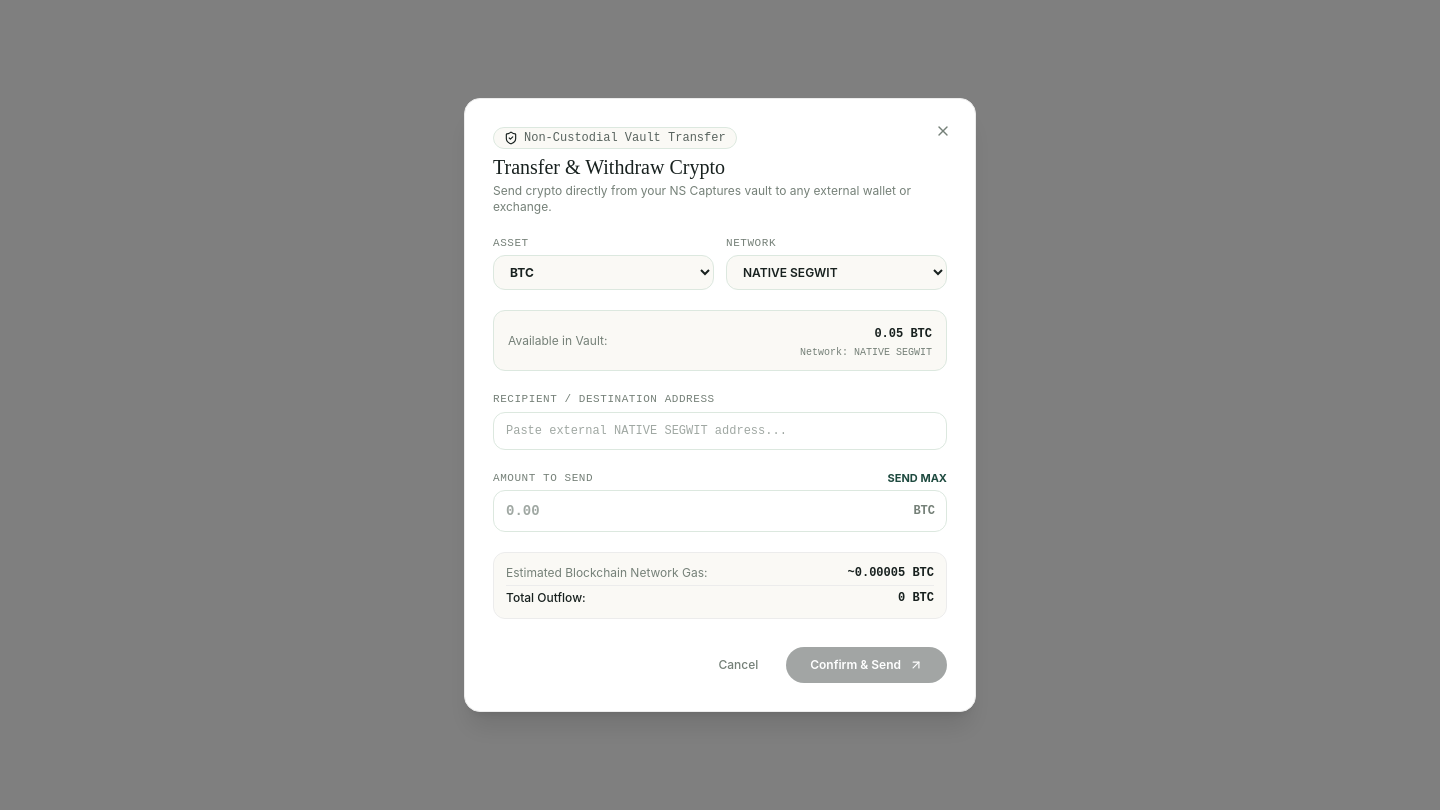
Test: TransferCryptoModal › validates Bitcoin Native SegWit address: rejects invalid address, accepts bc1 address
// Invalid: starts with 0x
In the field with placeholder "Paste external NATIVE SEGWIT address...": x=720, y=431 [493,412,947,450], type "0x71C8363837918a71018283719284729184719284"
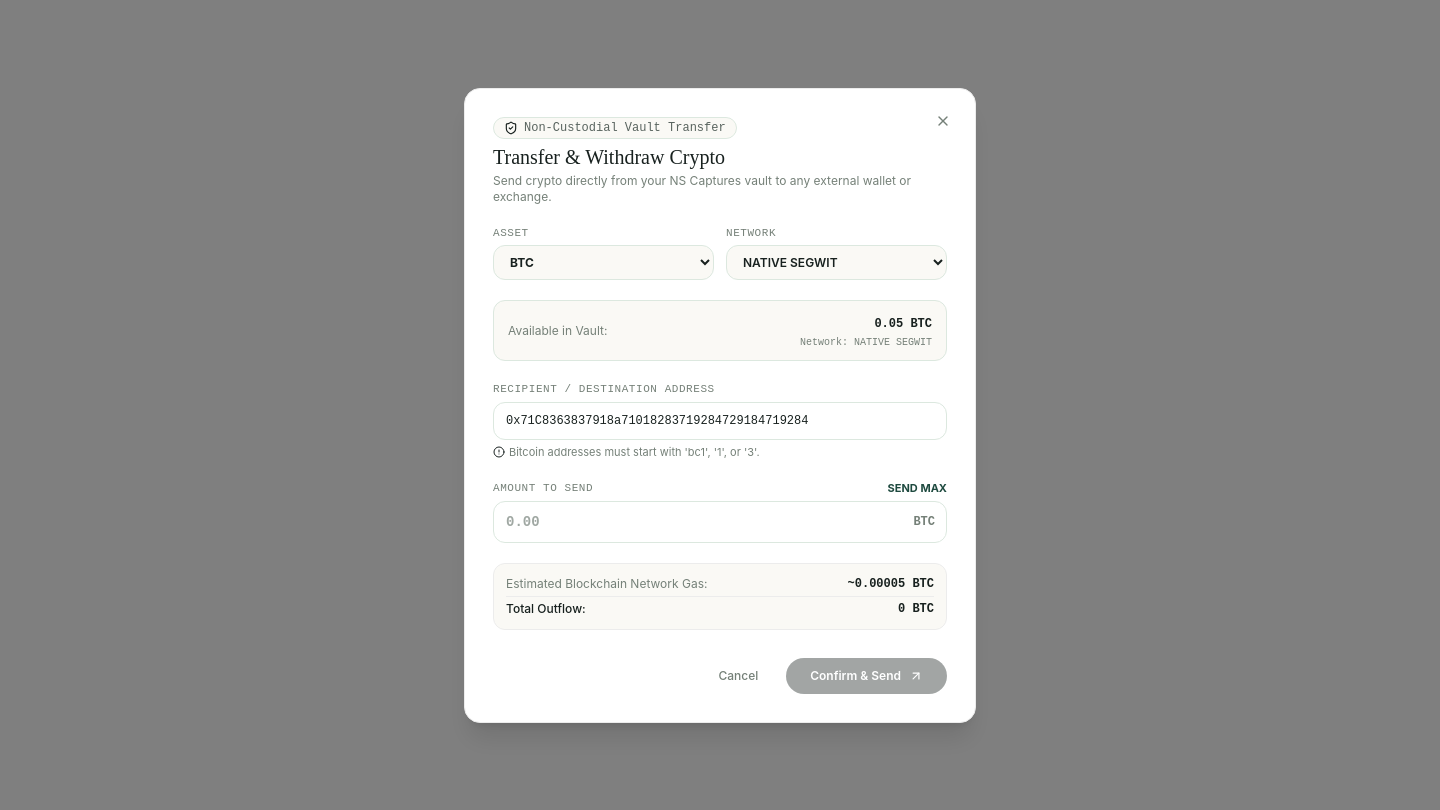
Now the text "Bitcoin addresses must start with 'bc1', '1', or '3'." is shown, box [509,444,760,460]
// Valid: bc1 address
Replace the text in the field with placeholder "Paste external NATIVE SEGWIT address..." with "bc1qxy2kgdygjrsqtzq2n0yrf2493p83kkfjhx0wlh": x=720, y=420 [493,402,947,440]
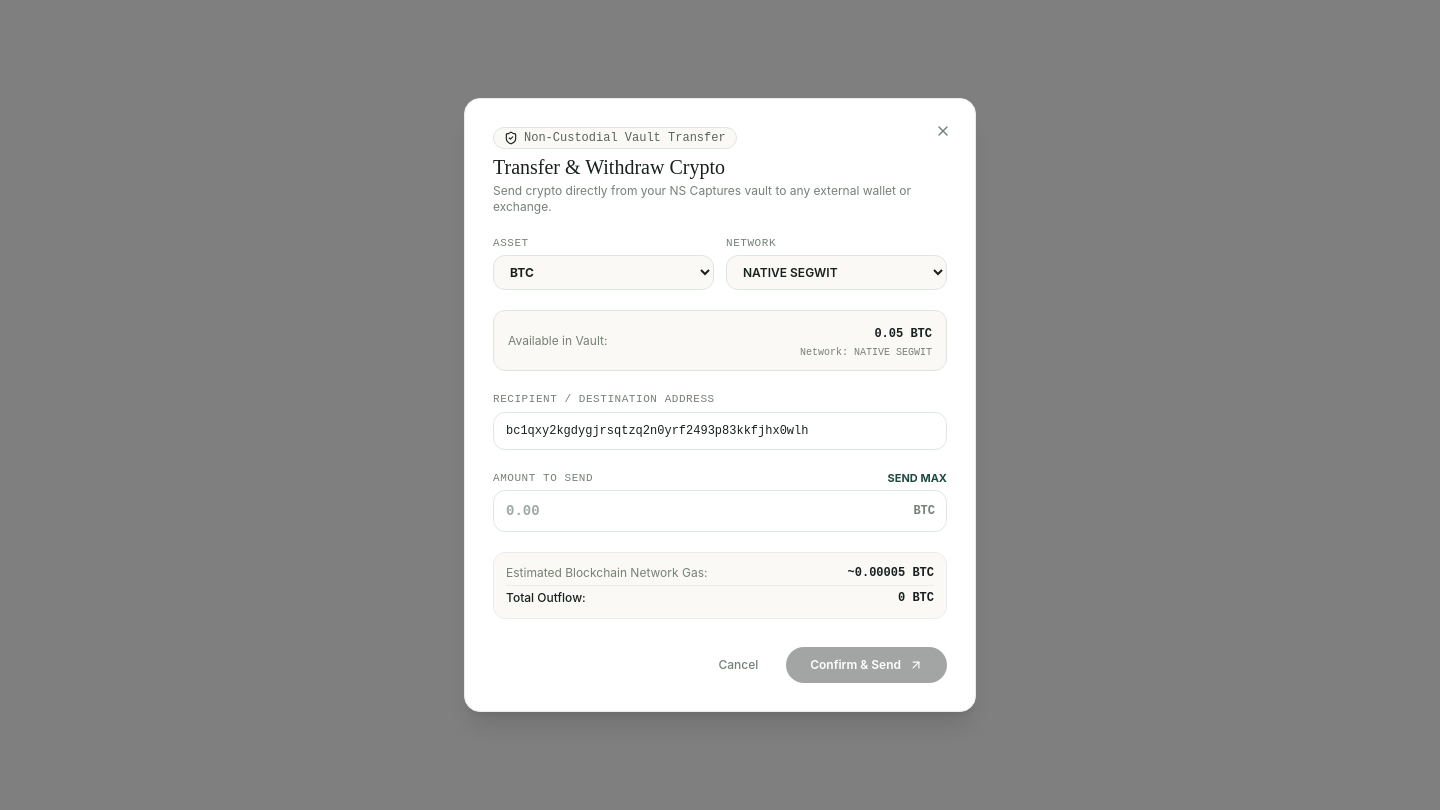
Now the text "Bitcoin addresses must start with 'bc1', '1', or '3'." is gone
